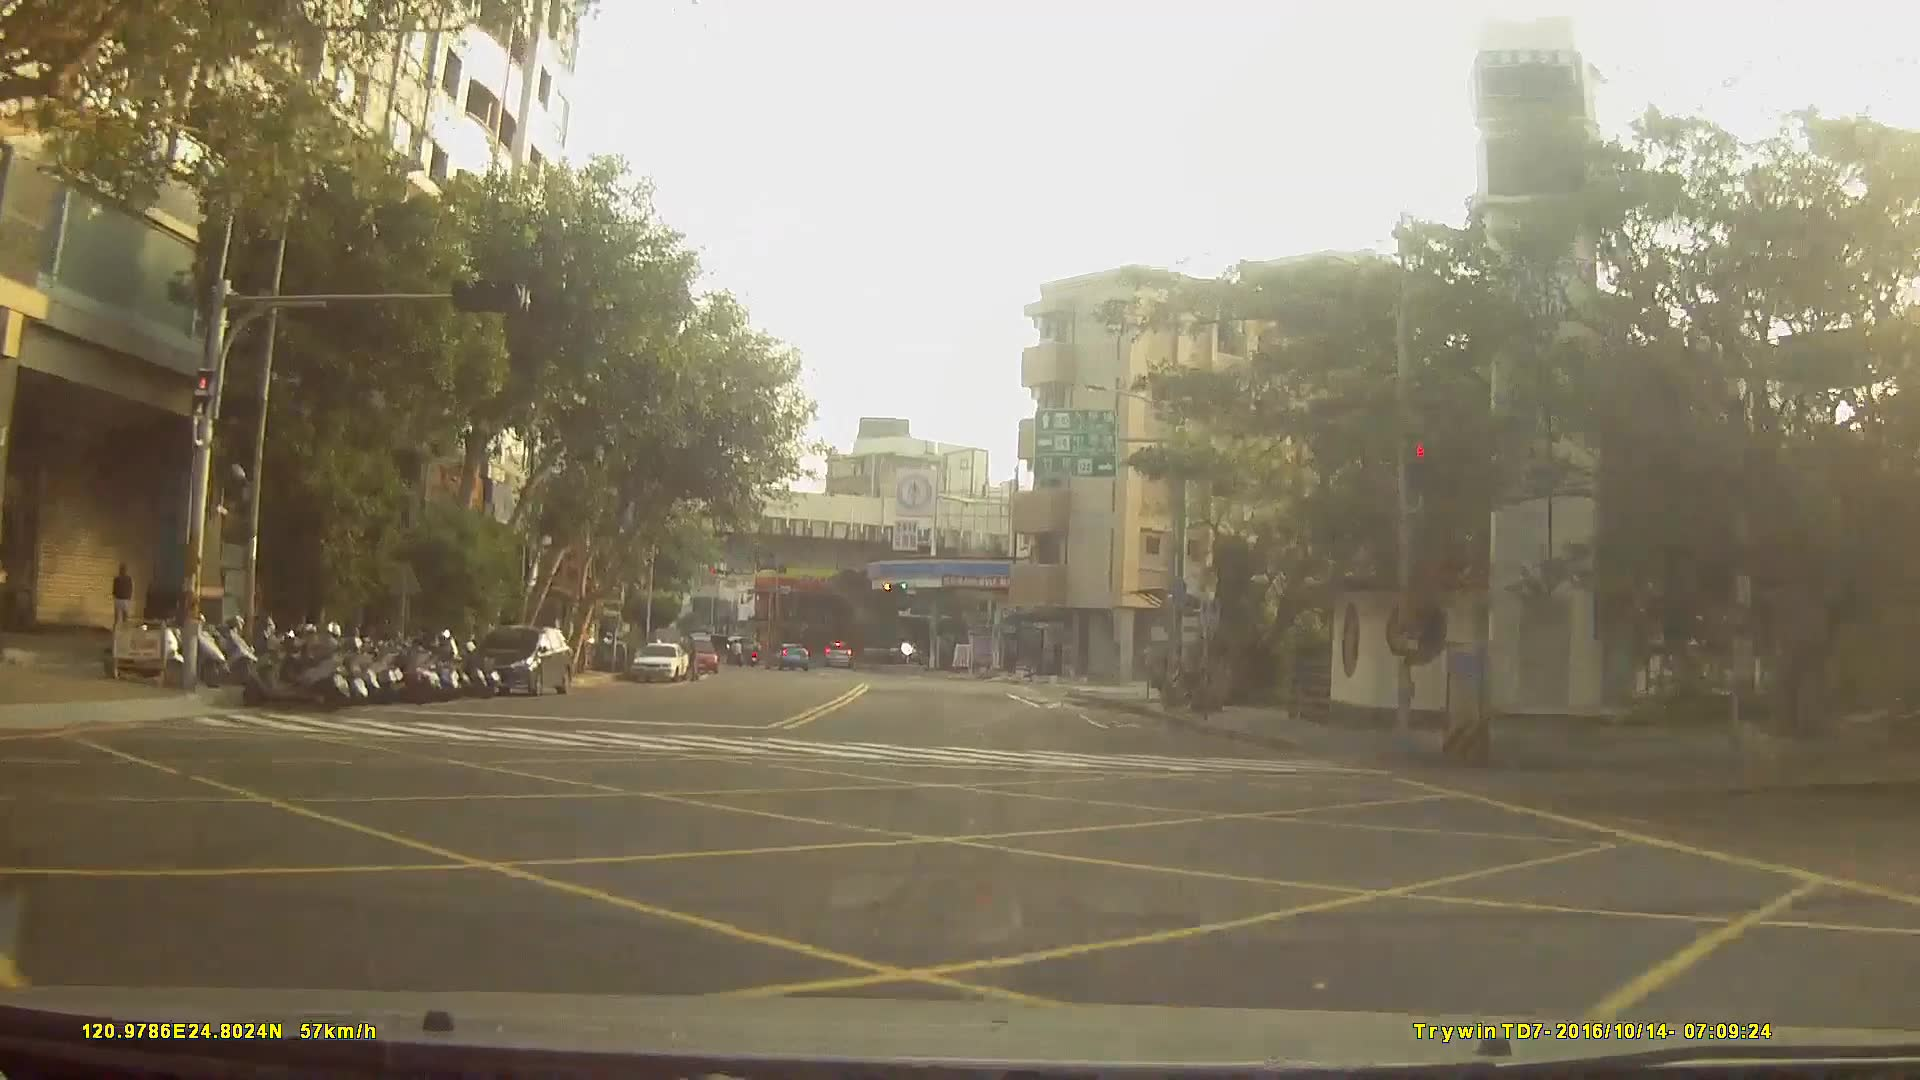pedestrian: (109, 561, 135, 637)
vehicle: (467, 619, 574, 693), (626, 636, 686, 679), (676, 634, 719, 672), (763, 639, 810, 670), (823, 635, 853, 663)
